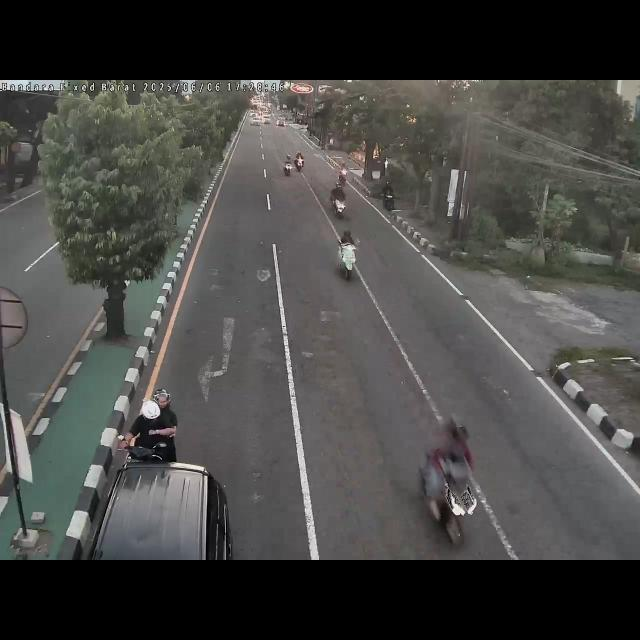Mobil: (82, 456, 242, 560)
Motor: (414, 410, 488, 550), (118, 378, 182, 490), (337, 228, 359, 282), (328, 181, 347, 221)
